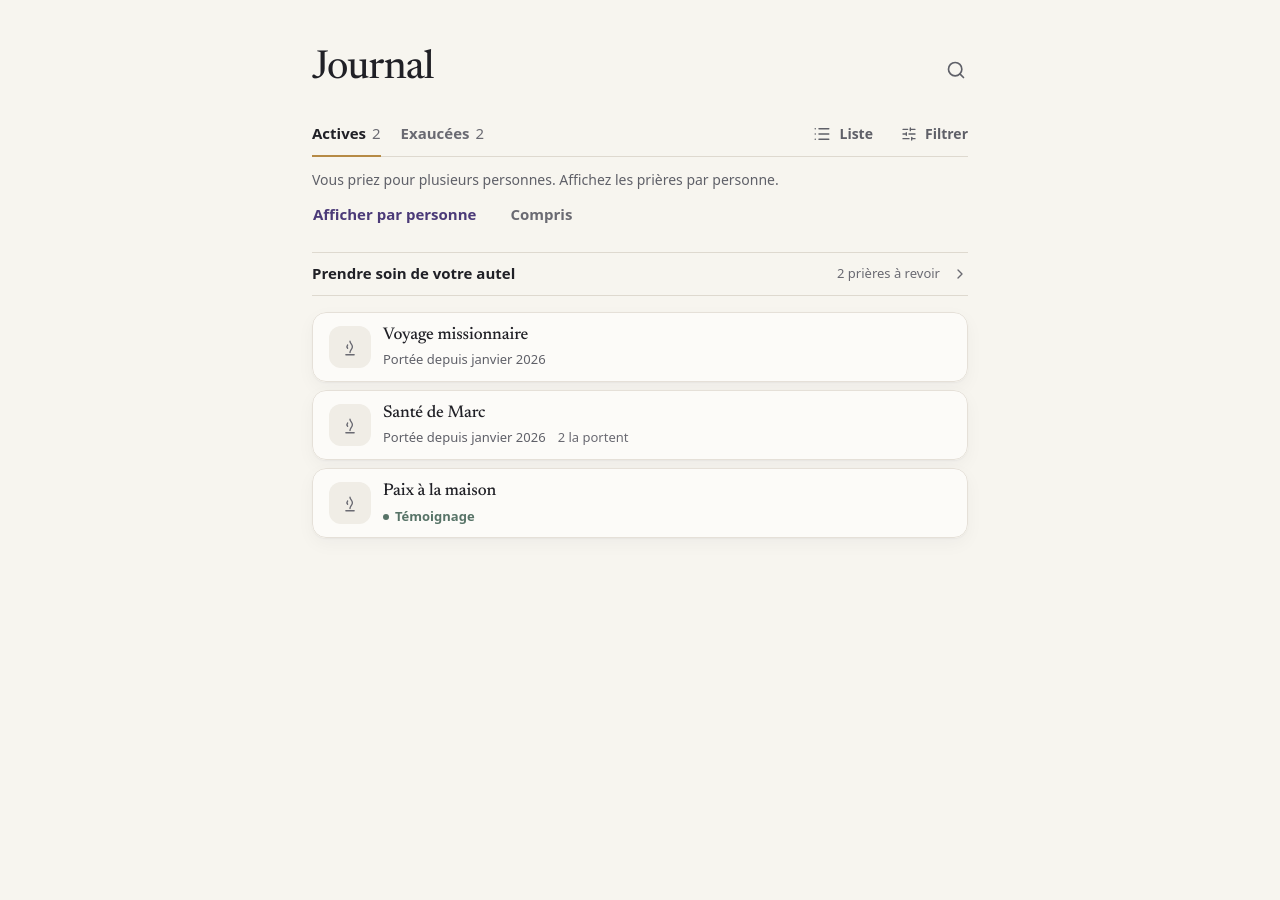
it: Journal retrieval › filters by source/group without exposing another permanent control
This screenshot has width=1280, height=900.
Step 1. Click the button named "Rechercher..." → (956, 70), box x1=934 y1=48 x2=978 y2=92
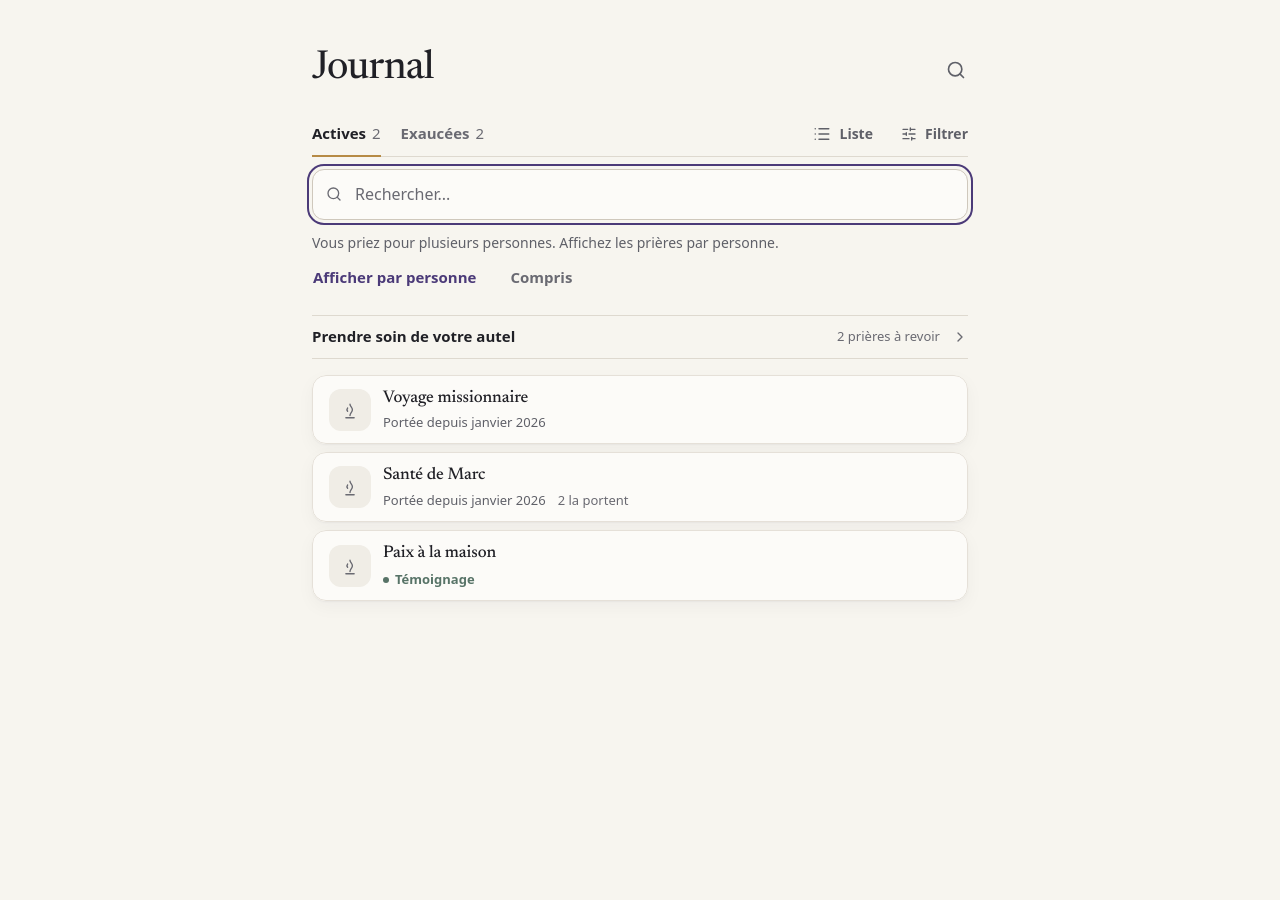
Step 2. Click the button "Filtrer" → (934, 134), box x1=889 y1=112 x2=980 y2=156
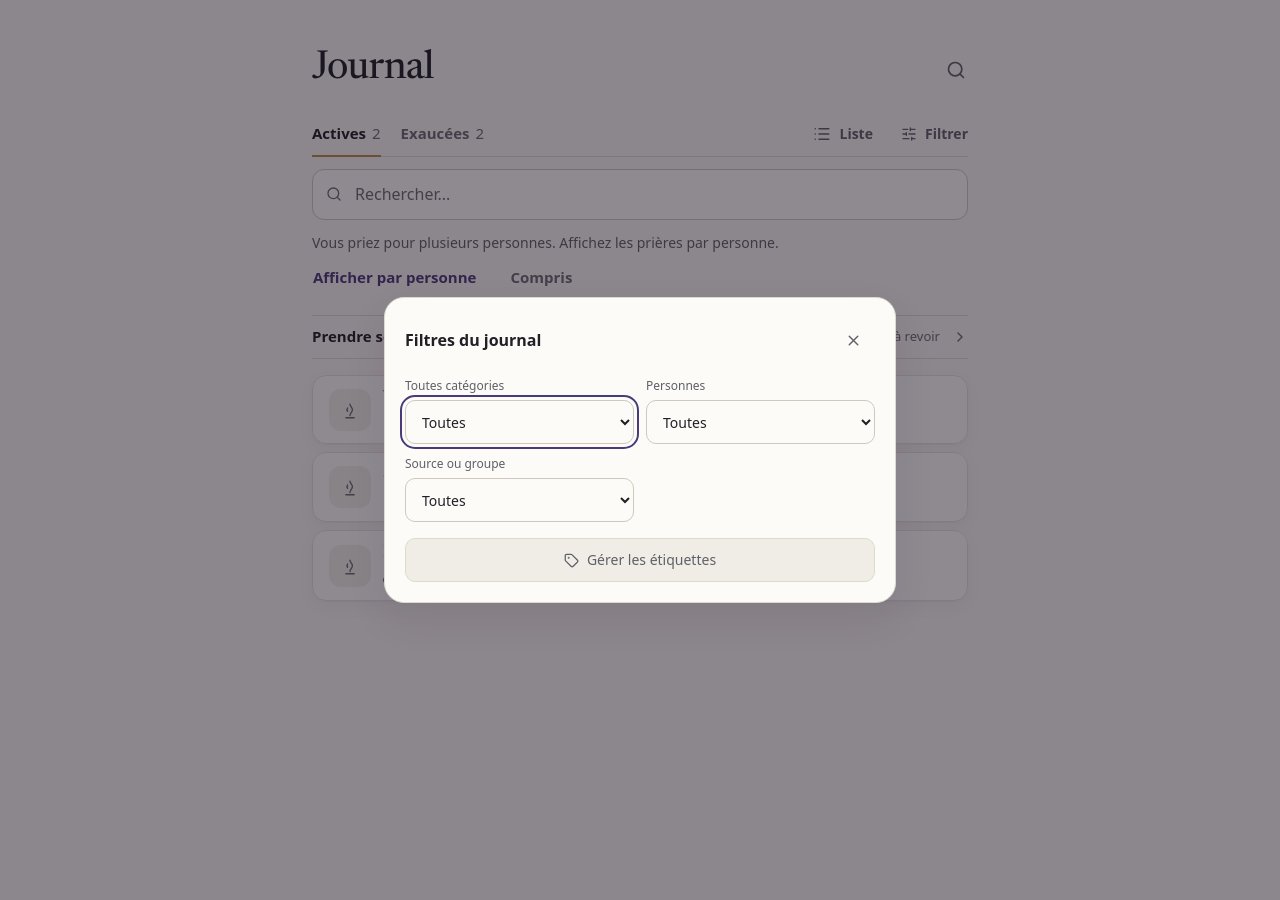
Step 3. Select "Groupe Espoir" in the dropdown labelled "Source ou groupe" → (520, 500), box x1=405 y1=478 x2=634 y2=522
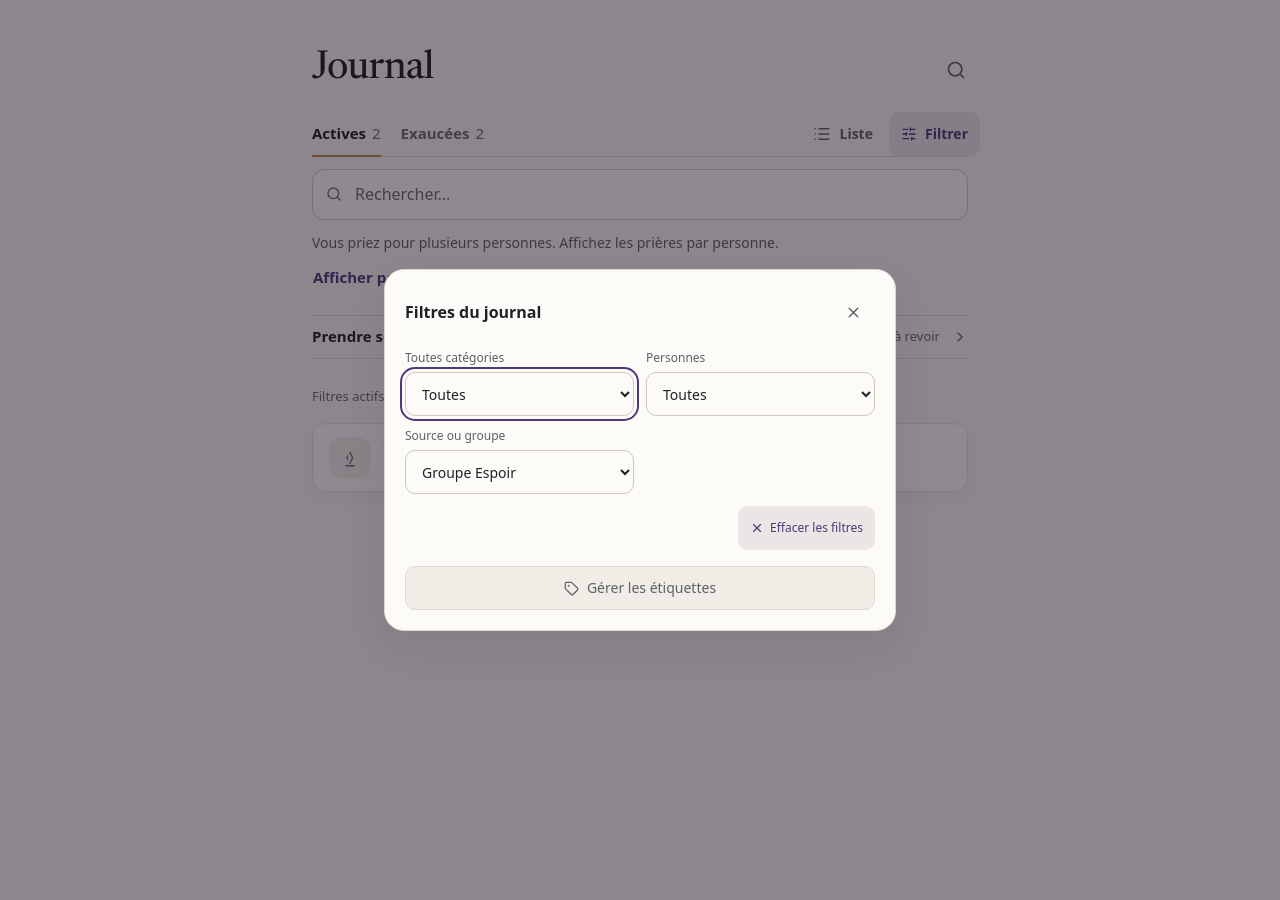
Check: the text "Santé de Marc" is shown, box x1=383 y1=438 x2=485 y2=454
Check: the button "Voyage missionnaire" is gone
